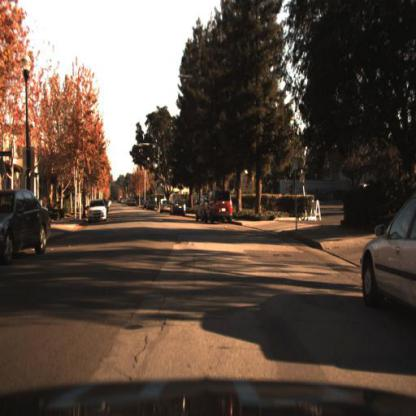car: (362, 192, 416, 320), (1, 188, 52, 267), (208, 192, 234, 228), (86, 197, 111, 227), (87, 199, 108, 224), (195, 192, 207, 223)
